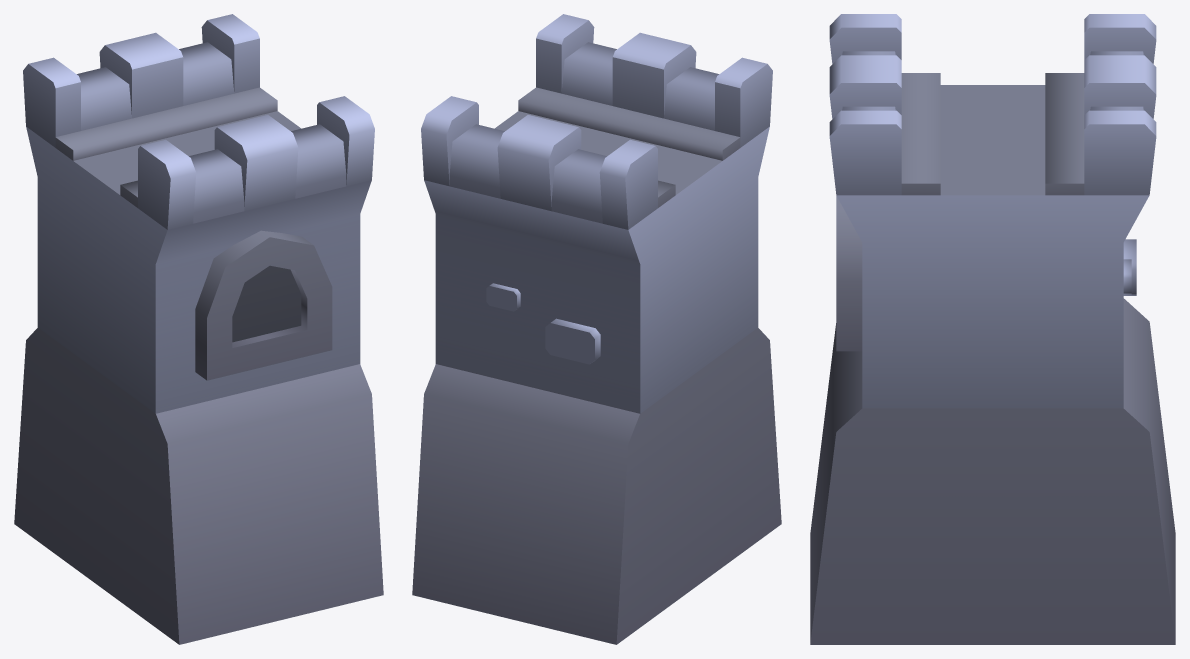
The model's file is pk_castle-window.glb.
The picture shows the model from 3 angles, left to right: view 1: azimuth 30°, elevation 25°; view 2: azimuth 150°, elevation 25°; view 3: azimuth 270°, elevation 25°; orthographic projection. The views are drawn at different scales.
Parts seen in each view (by area): view 1: castle-window; view 2: castle-window; view 3: castle-window.
Boxes of the visible parts, box(x1,y1,x2,y2) form: castle-window: box(14, 14, 383, 644); castle-window: box(412, 14, 781, 644); castle-window: box(810, 14, 1175, 644).
Size of the model in its own units: 2 by 4.4 by 2.8.
Materials: 1 (1 with a texture image).
